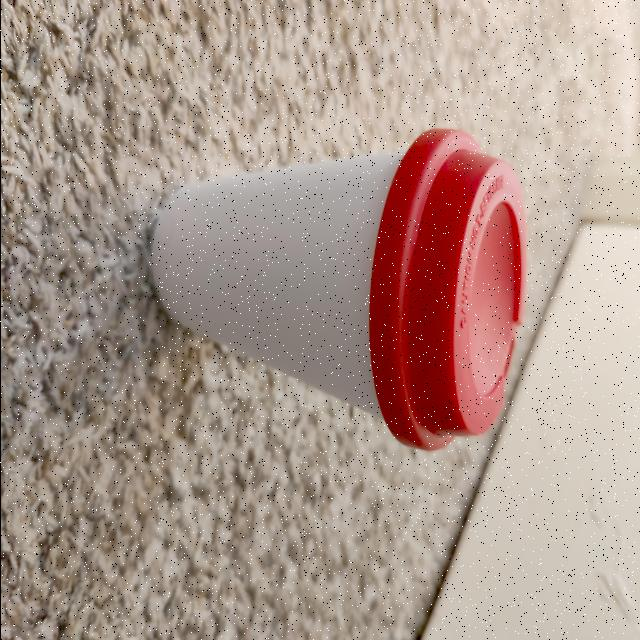mug: (145, 136, 526, 454)
